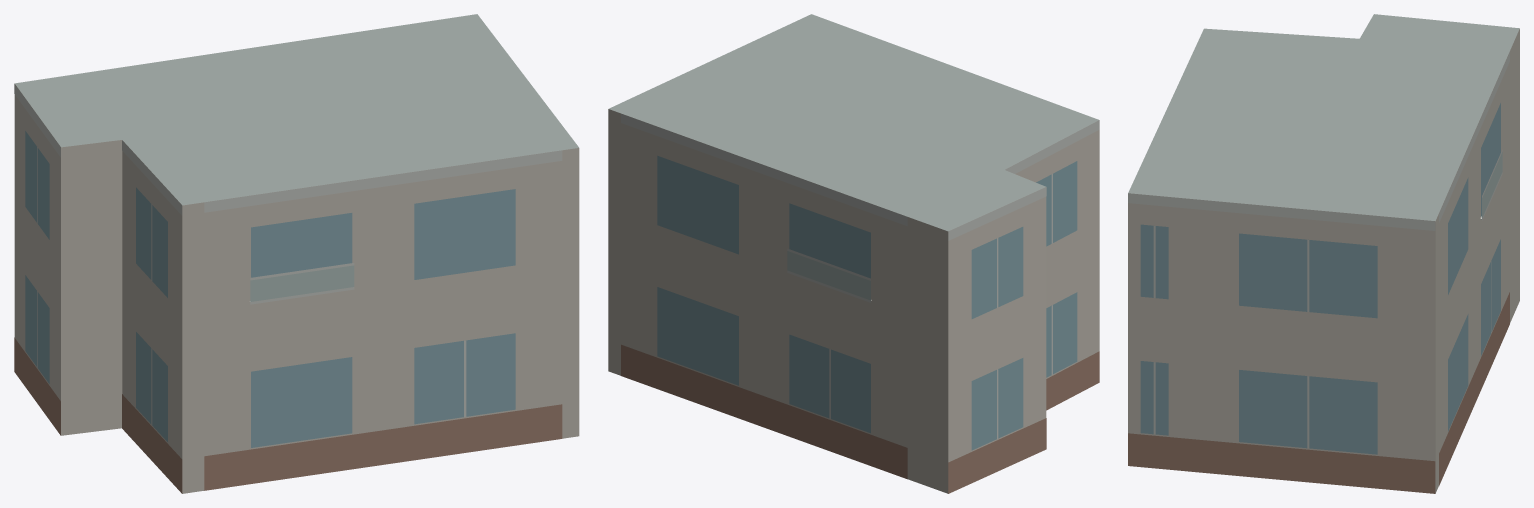
File: survey-upis-32497108.glb
3 renders of one model, left to right at view 1: azimuth 30°, elevation 25°; view 2: azimuth 150°, elevation 25°; view 3: azimuth 270°, elevation 25°, orthographic. The views are drawn at different scales.
Visible parts, largest first — view 1: survey-upis-32497108.tmp; view 2: survey-upis-32497108.tmp; view 3: survey-upis-32497108.tmp.
Part boxes in pixels (box(x1,y1,x2,y2)): survey-upis-32497108.tmp: box(14, 14, 579, 493); survey-upis-32497108.tmp: box(608, 14, 1099, 493); survey-upis-32497108.tmp: box(1128, 14, 1519, 493).
Size of the model in its own units: 10.92 by 6.7 by 8.73.
